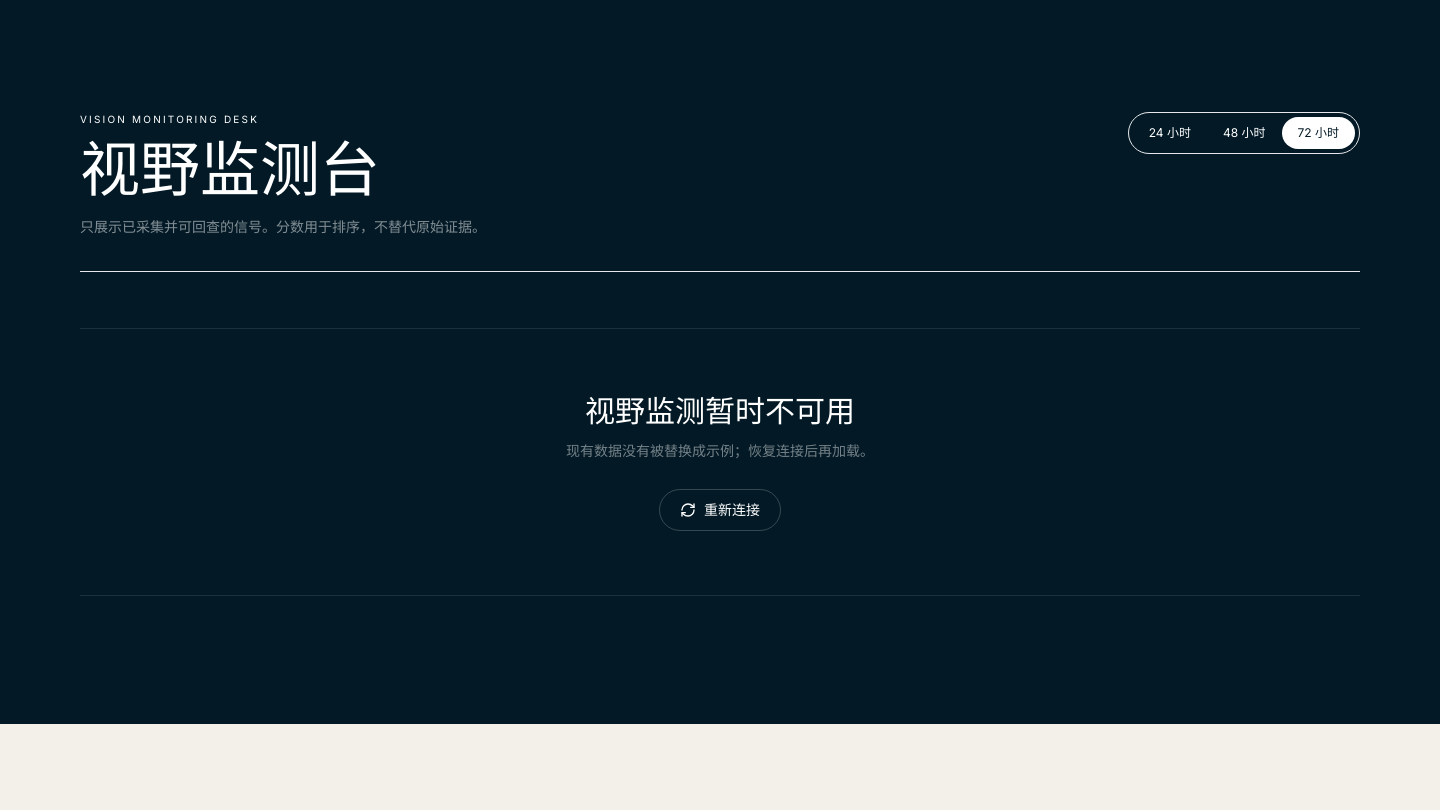
Scenario: Vision Monitoring dashboard › shows honest empty and retryable error states without sample topics
The width and height of the screenshot is (1440, 810).
Expected: the heading "视野监测暂时不可用" is shown, [585,393,855,429]
Click the button "重新连接": (720, 510) [659,489,781,531]
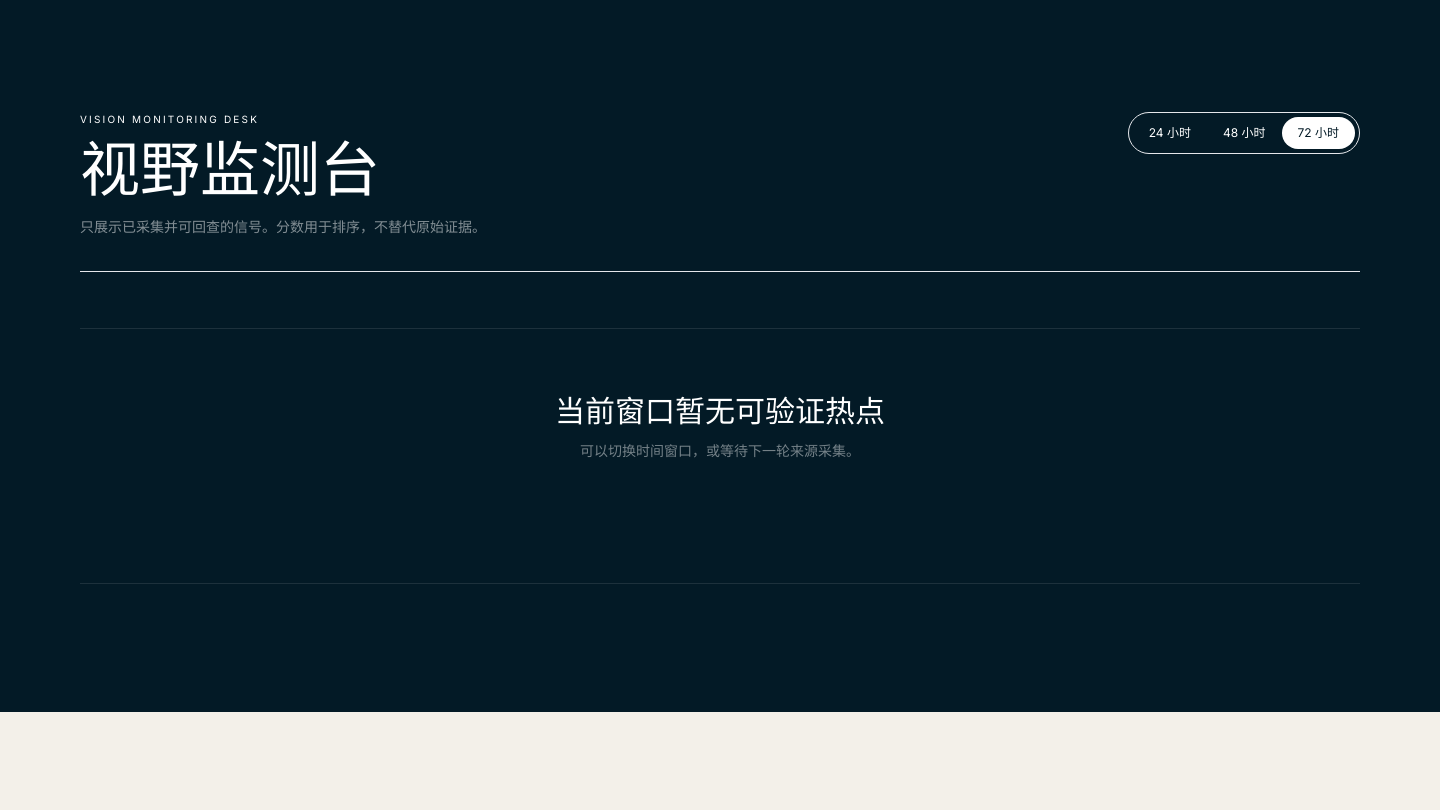
Expected: the heading "当前窗口暂无可验证热点" is shown, [555,393,885,429]
